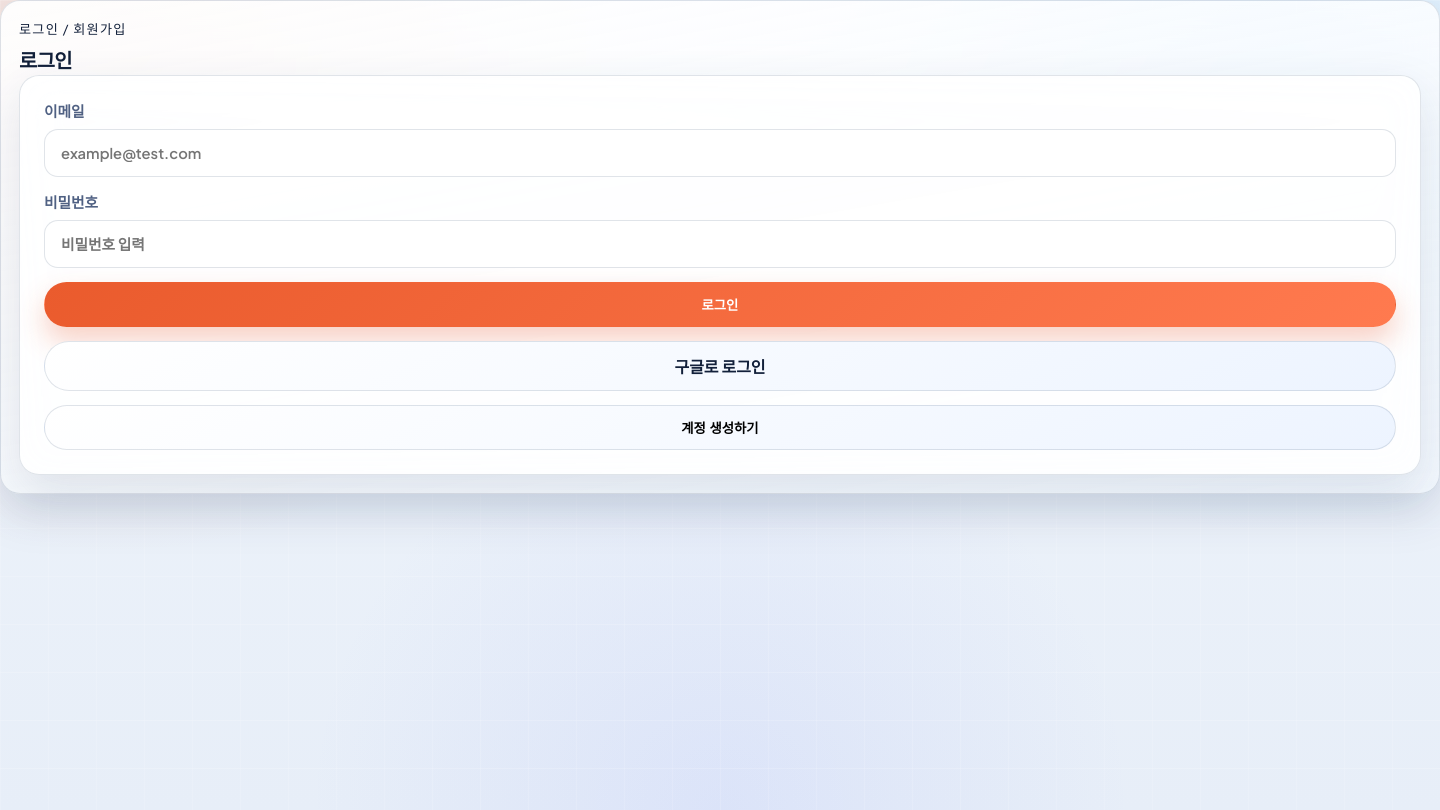
Test: ProfilePanel auth submit flow (unit) › 세션 확인 실패 시 폼을 초기화하지 않고 재시도 안내를 보여준다
This screenshot has width=1440, height=810.
In the field labelled "이메일": (720, 153) [44,129,1396,177], type "student@example.com"
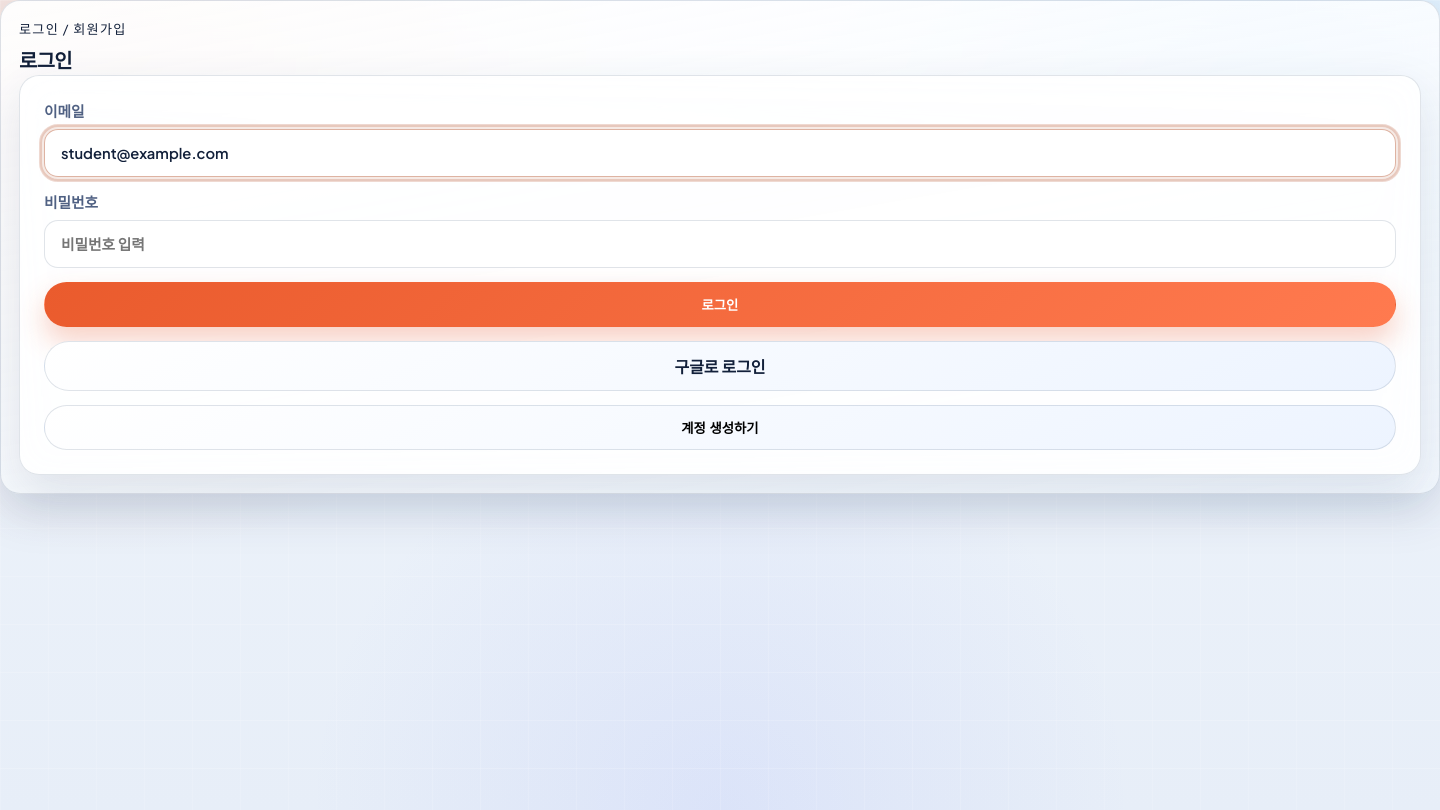
In the password field labelled "비밀번호": (720, 244) [44,220,1396,268], type "Secure@99"
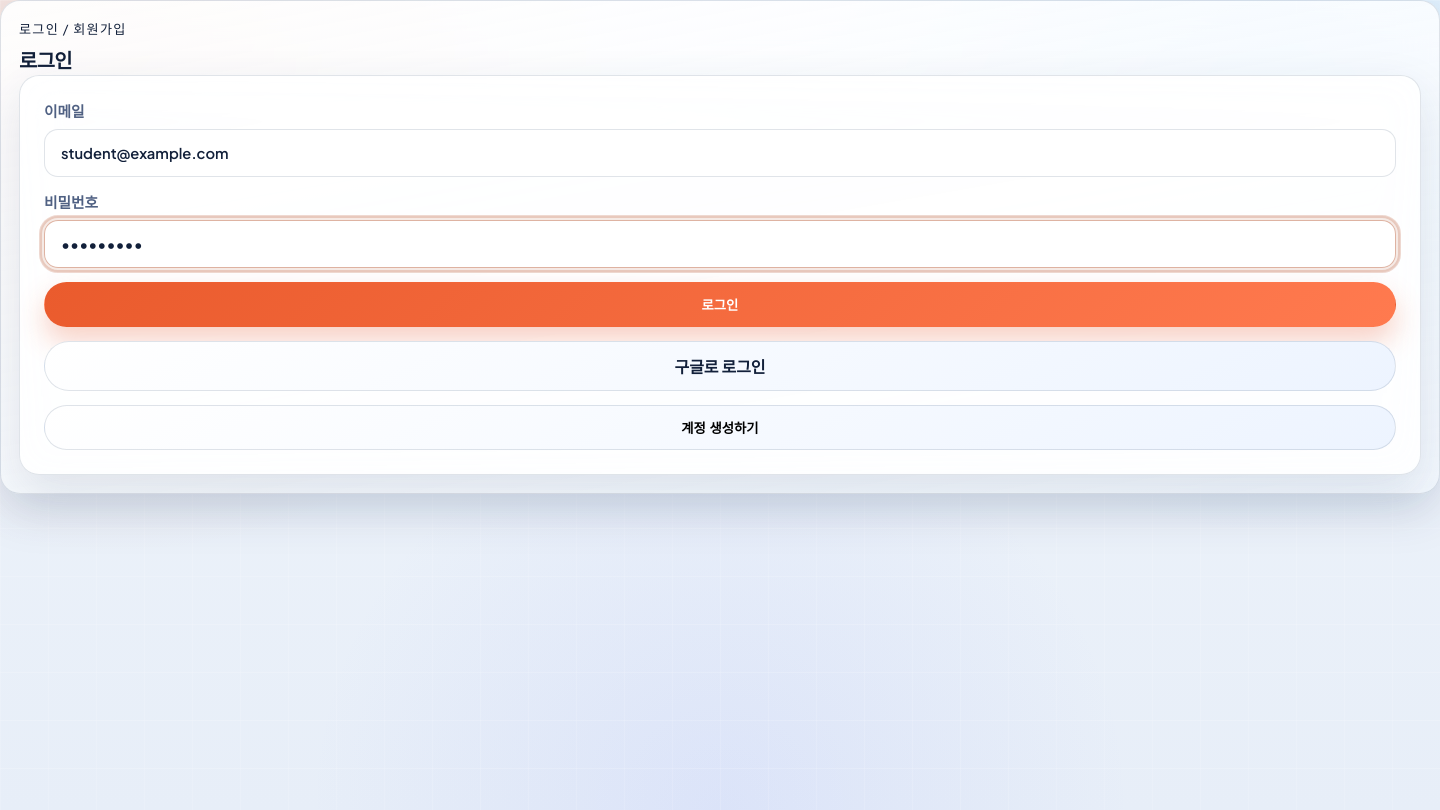
Click the button "로그인": (720, 304) [44,282,1396,327]
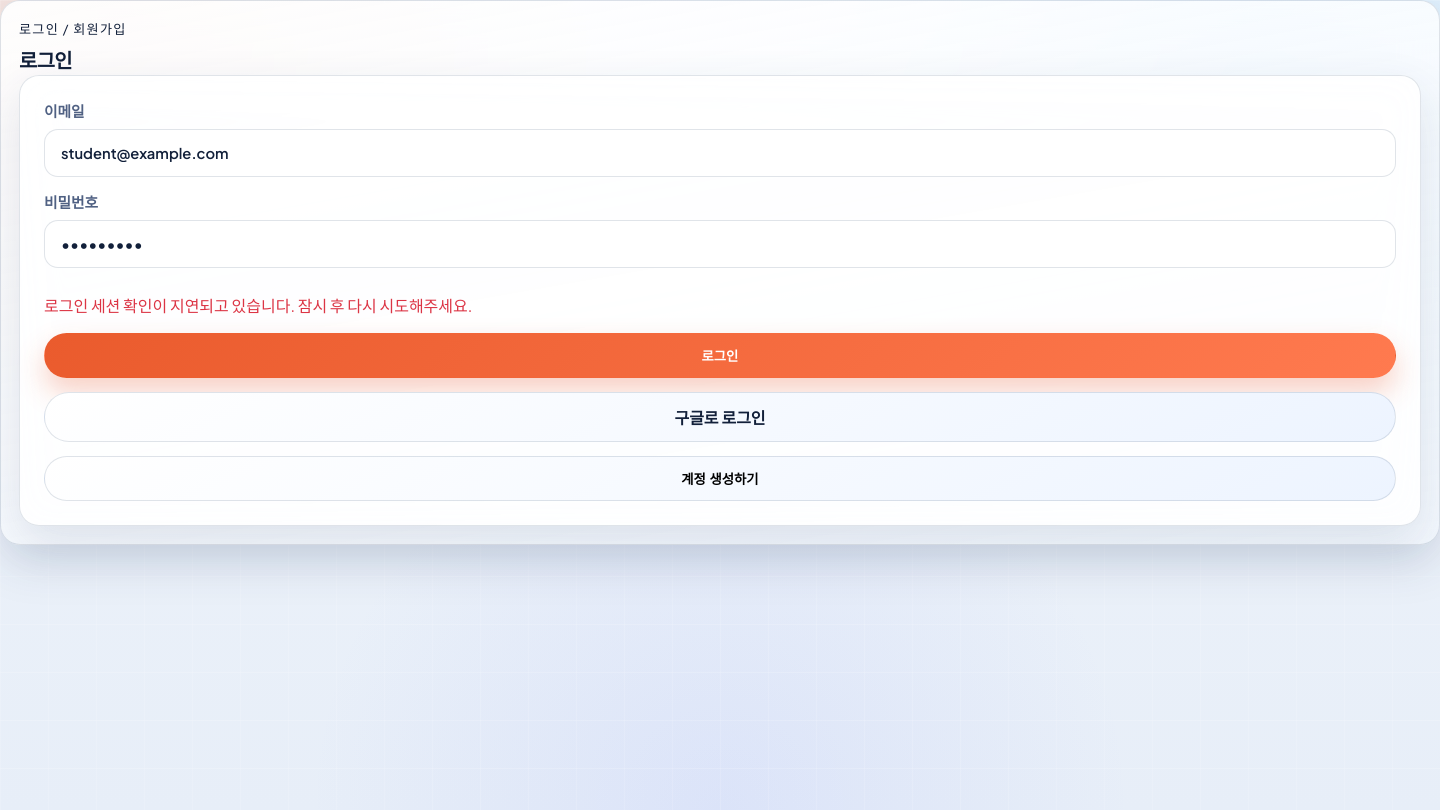
Now the text "로그인 세션 확인이 지연되고 있습니다. 잠시 후 다시 시도해주세요." is shown, box [44,295,472,316]
